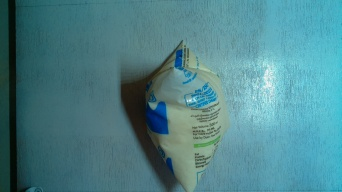m: (134, 35, 247, 192)
